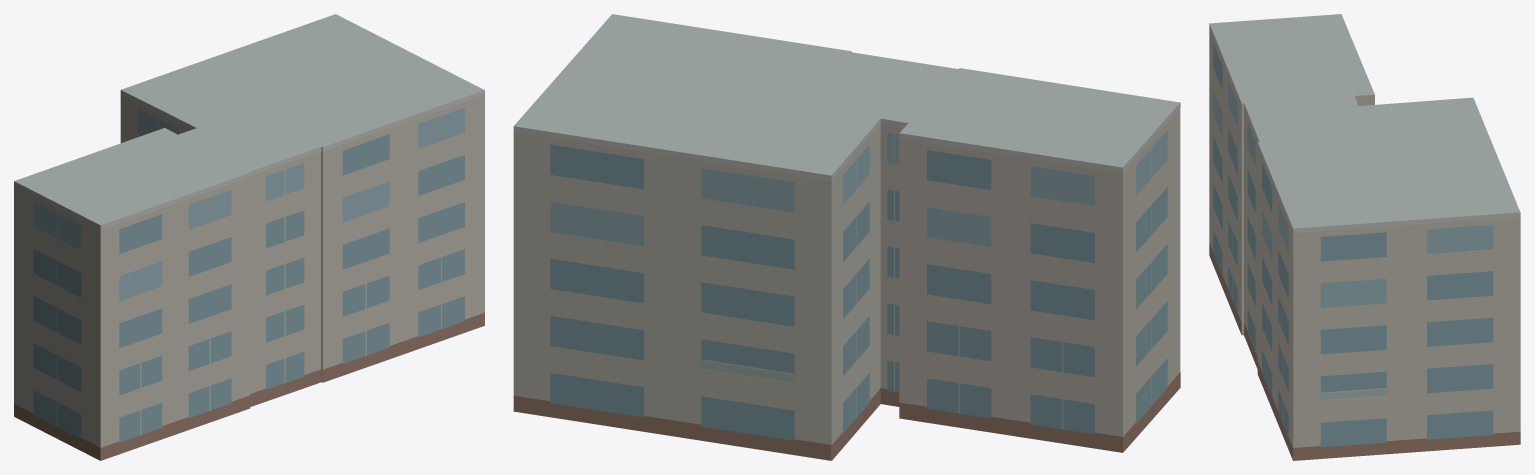
File: survey-upis-32997773.glb
The picture shows the model from 3 angles, left to right: view 1: azimuth 30°, elevation 25°; view 2: azimuth 150°, elevation 25°; view 3: azimuth 270°, elevation 25°; orthographic projection. The views are drawn at different scales.
Parts seen in each view (by area): view 1: survey-upis-32997773.tmp; view 2: survey-upis-32997773.tmp; view 3: survey-upis-32997773.tmp.
Part boxes in pixels (<box>): survey-upis-32997773.tmp: <box>14,14,484,460</box>; survey-upis-32997773.tmp: <box>513,14,1180,460</box>; survey-upis-32997773.tmp: <box>1209,14,1520,460</box>.
Size of the model in its own units: 25.01 by 12.61 by 15.32.
